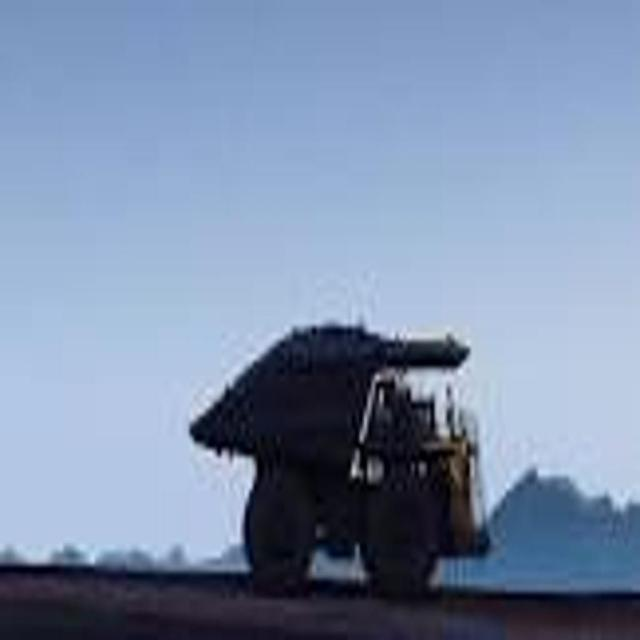dump_truck: (200, 291, 508, 625)
